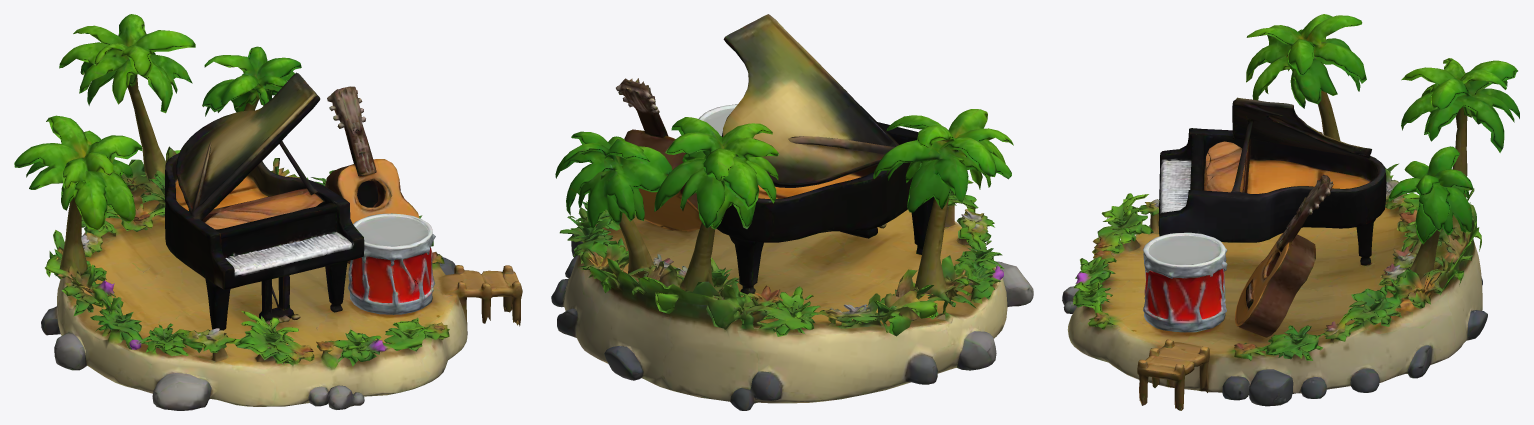
Rendered from isl-12.glb.
3 views of the same model, side by side, from view 1: azimuth 30°, elevation 25°; view 2: azimuth 150°, elevation 25°; view 3: azimuth 270°, elevation 25° (orthographic). The views are drawn at different scales.
Visible parts, largest first — view 1: world; view 2: world; view 3: world.
Part boxes in pixels (box(x1,y1,x2,y2)): world: box(14, 14, 522, 410); world: box(551, 14, 1033, 410); world: box(1062, 14, 1519, 410).
Size of the model in its own units: 0.9935 by 0.542 by 0.9479.
1 material, 1 textured.
